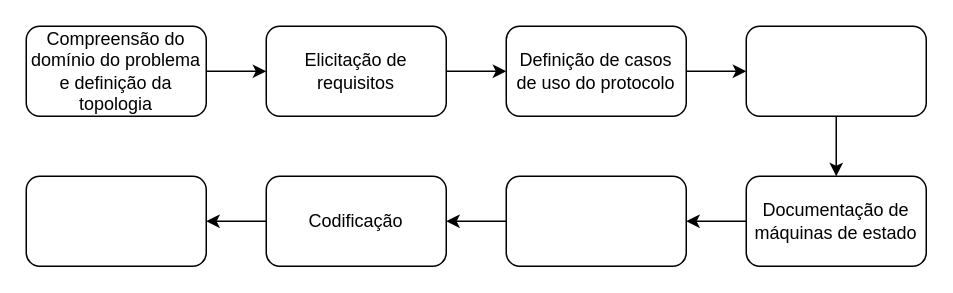
This 953x293 diagram has some shape labels left out. The shapes that lost their labels are listed below. From the top down, each one's box as (x1, y1, x2, y2) in pixels, then its label:
(745, 25, 926, 116): Documentação de diagramas de sequência
(25, 175, 206, 266): Prototipação e validação
(505, 175, 686, 266): Definição da arquitetura de software e abstrações
